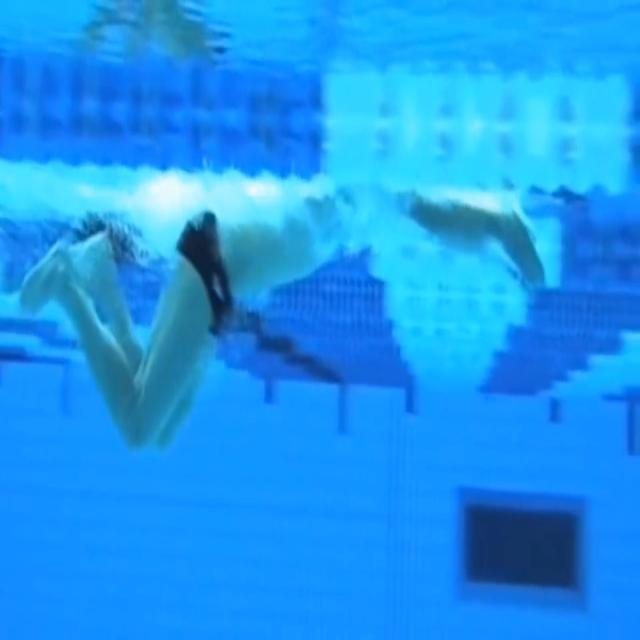Swimming: (21, 186, 547, 452)
